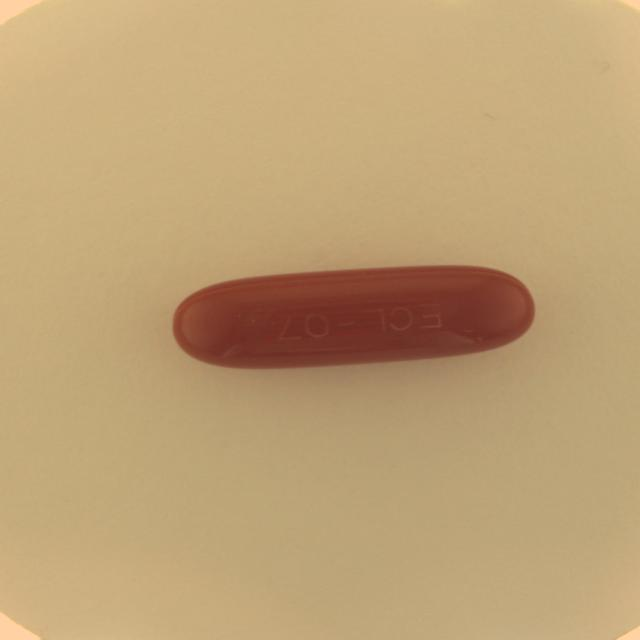Oval: (168, 261, 538, 369)
